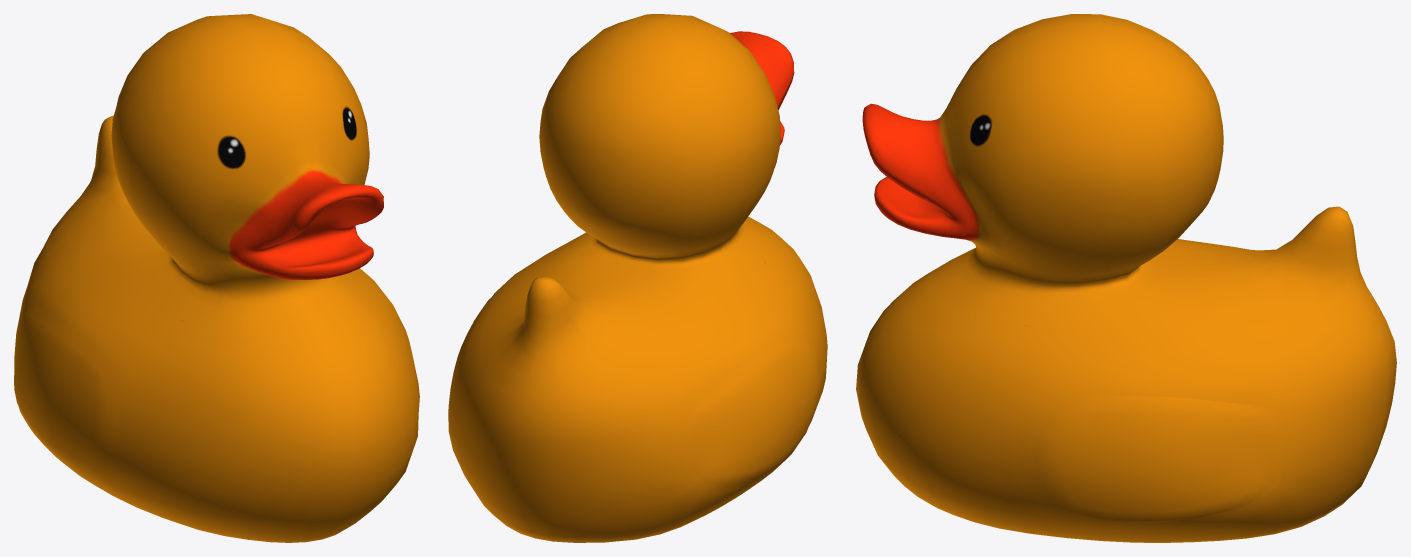
Rendered from rubber_duck_bath_toy.glb.
The picture shows the model from 3 angles, left to right: view 1: azimuth 30°, elevation 25°; view 2: azimuth 150°, elevation 25°; view 3: azimuth 270°, elevation 25°; orthographic projection. The views are drawn at different scales.
Parts seen in each view (by area): view 1: rubberduck_0; view 2: rubberduck_0; view 3: rubberduck_0.
Boxes of the visible parts, x1,y1,x2,y2 form: rubberduck_0: [14, 14, 419, 542]; rubberduck_0: [448, 14, 827, 542]; rubberduck_0: [856, 14, 1396, 542].
Size of the model in its own units: 0.9342 by 1.25 by 1.31.
Materials: 1 (1 with a texture image).
